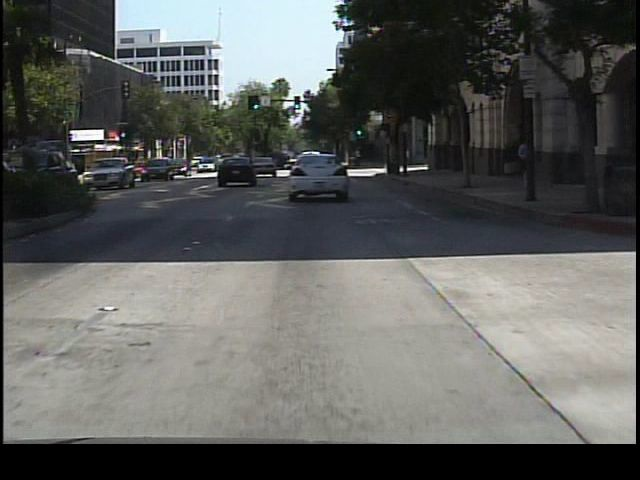person: (515, 137, 538, 196)
